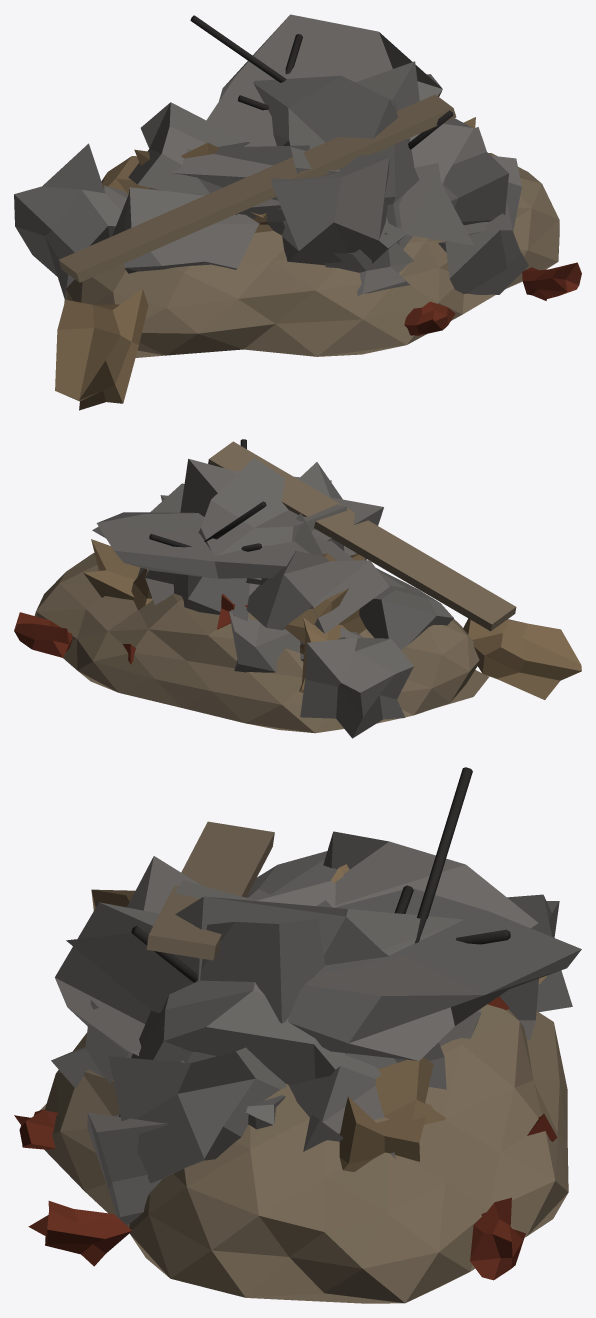
The model's file is cover_rubble_11.glb.
3 renders of one model, top to bottom at view 1: azimuth 30°, elevation 25°; view 2: azimuth 150°, elevation 25°; view 3: azimuth 270°, elevation 25°, orthographic. The views are drawn at different scales.
Parts seen in each view (by area): view 1: mound, slab, plank, lump_22, lump_11, lump_24, lump_32, lump_13, lump_19, lump_29, lump_28, lump_21 (+6 smaller); view 2: mound, plank, lump_32, slab, lump_24, lump_13, lump_11, lump_19, lump_6, lump_7, lump_20, lump_3 (+7 smaller); view 3: mound, slab, lump_28, lump_7, lump_29, lump_32, lump_13, lump_22, plank, lump_21, lump_33, lump_20 (+11 smaller).
Boxes of the visible parts, x1,y1,x2,y2 form: mound: (64,153,559,357); slab: (171,14,442,209); plank: (58,94,456,282); lump_22: (271,154,407,265); lump_11: (55,288,148,410); lump_24: (14,143,121,298); lump_32: (253,75,409,176); lump_13: (128,102,309,195); lump_19: (112,187,259,273); lump_29: (385,118,473,245); lump_28: (443,127,521,231); lump_21: (438,200,528,294); mound: (34,553,489,733); plank: (208,441,516,631); lump_32: (173,458,347,621); slab: (92,512,354,584); lump_24: (300,637,413,738); lump_13: (246,513,389,644); lump_11: (463,618,581,699); lump_19: (359,568,453,649); lump_6: (229,611,300,672); lump_7: (180,458,356,579); lump_20: (83,539,140,600); lump_3: (14,612,72,657); mound: (40,1004,568,1303); slab: (265,861,581,1060); lump_28: (108,1047,286,1183); lump_7: (66,918,325,1062); lump_29: (119,980,381,1116); lump_32: (174,880,481,1062); lump_13: (256,831,538,928); lump_22: (55,856,200,1055); plank: (146,821,274,960); lump_21: (87,1112,167,1224); lump_33: (288,1042,446,1133); lump_20: (339,1096,425,1171).
Size of the model in its own units: 2.4 by 1.08 by 1.5.
